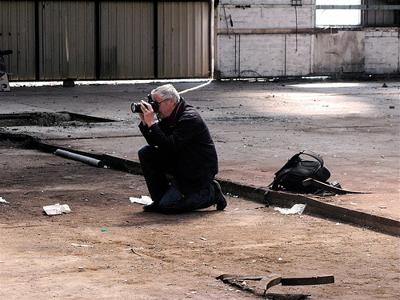person: (138, 83, 230, 215)
